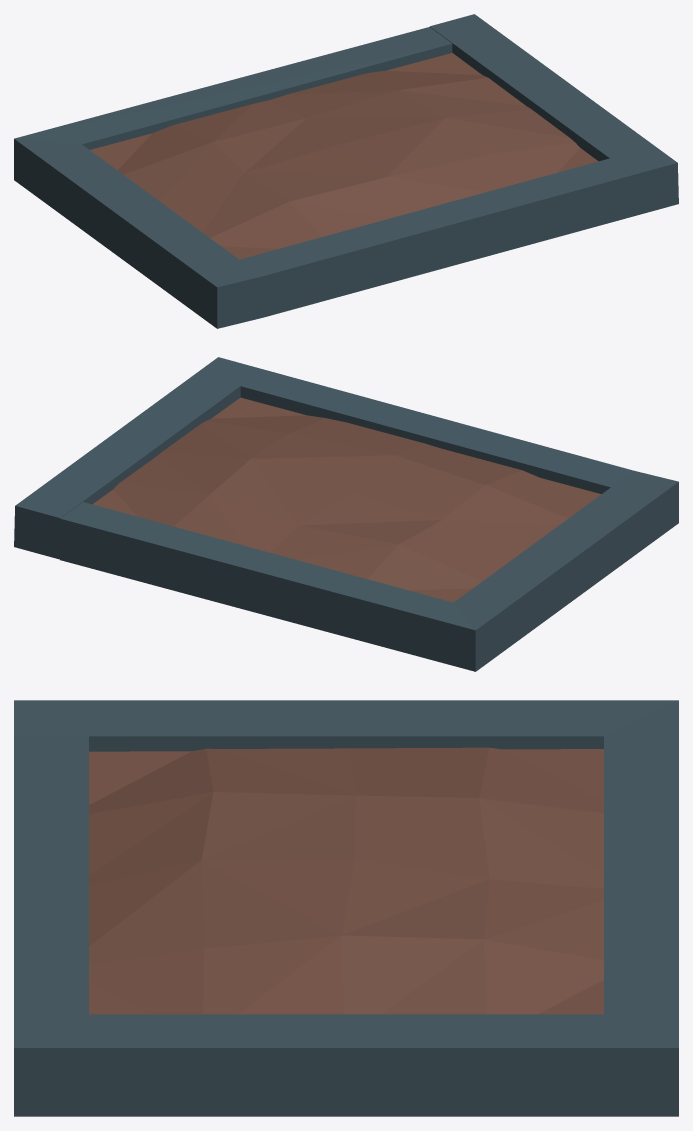
3 renders of one model, top to bottom at view 1: azimuth 30°, elevation 25°; view 2: azimuth 150°, elevation 25°; view 3: azimuth 270°, elevation 25°, orthographic. The views are drawn at different scales.
Visible parts, largest first — view 1: mesh_1483305596, mesh_1709940713, mesh_645413163; view 2: mesh_1483305596, mesh_645413163, mesh_1709940713; view 3: mesh_1483305596, mesh_1709940713, mesh_645413163.
Boxes of the visible parts, left/top/right/bottom form: mesh_1483305596: left=90, top=53, right=598, bottom=259; mesh_1709940713: left=240, top=14, right=678, bottom=317; mesh_645413163: left=14, top=27, right=452, bottom=328; mesh_1483305596: left=92, top=397, right=601, bottom=602; mesh_645413163: left=60, top=470, right=678, bottom=671; mesh_1709940713: left=14, top=357, right=633, bottom=559; mesh_1483305596: left=89, top=747, right=603, bottom=1014; mesh_1709940713: left=14, top=736, right=678, bottom=1116; mesh_645413163: left=14, top=700, right=678, bottom=1014.
Bounding box in the file's own units: 93.13 × 12.98 × 71.
